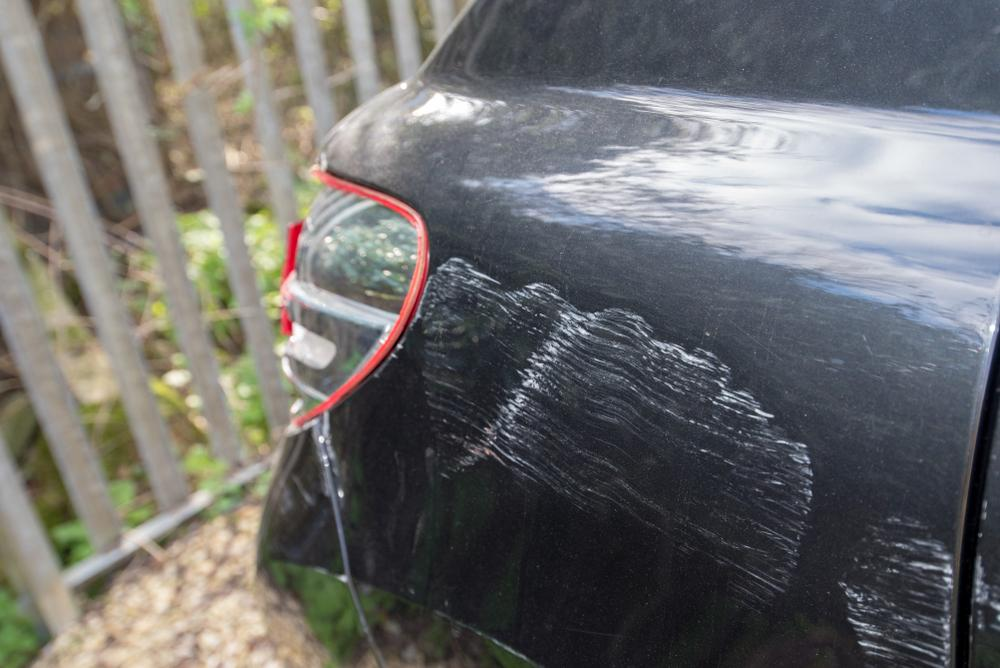scratch: (422, 260, 814, 607), (842, 510, 952, 668)
